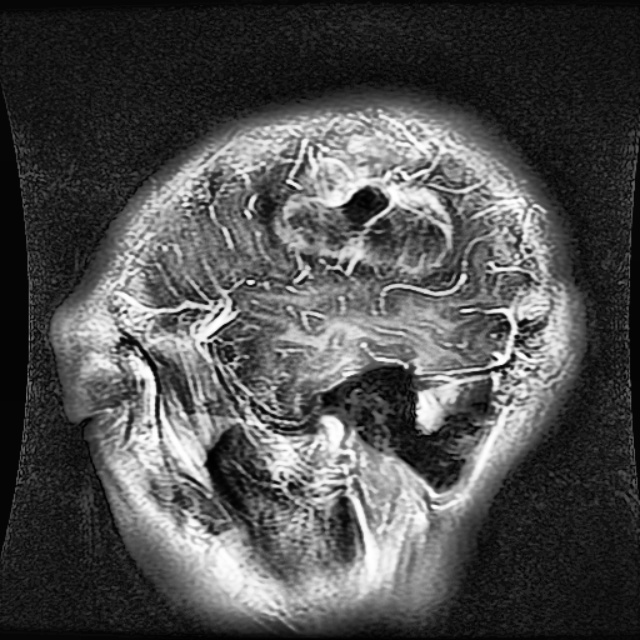Meningioma: (273, 133, 457, 270)
